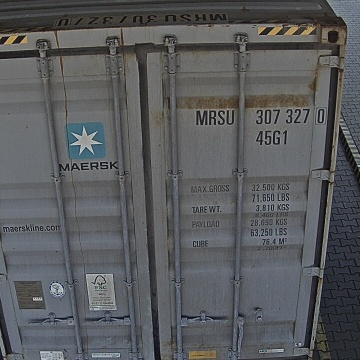serial_id: (196, 108, 326, 125)
